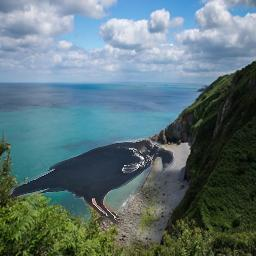Crow: (6, 138, 175, 226)
